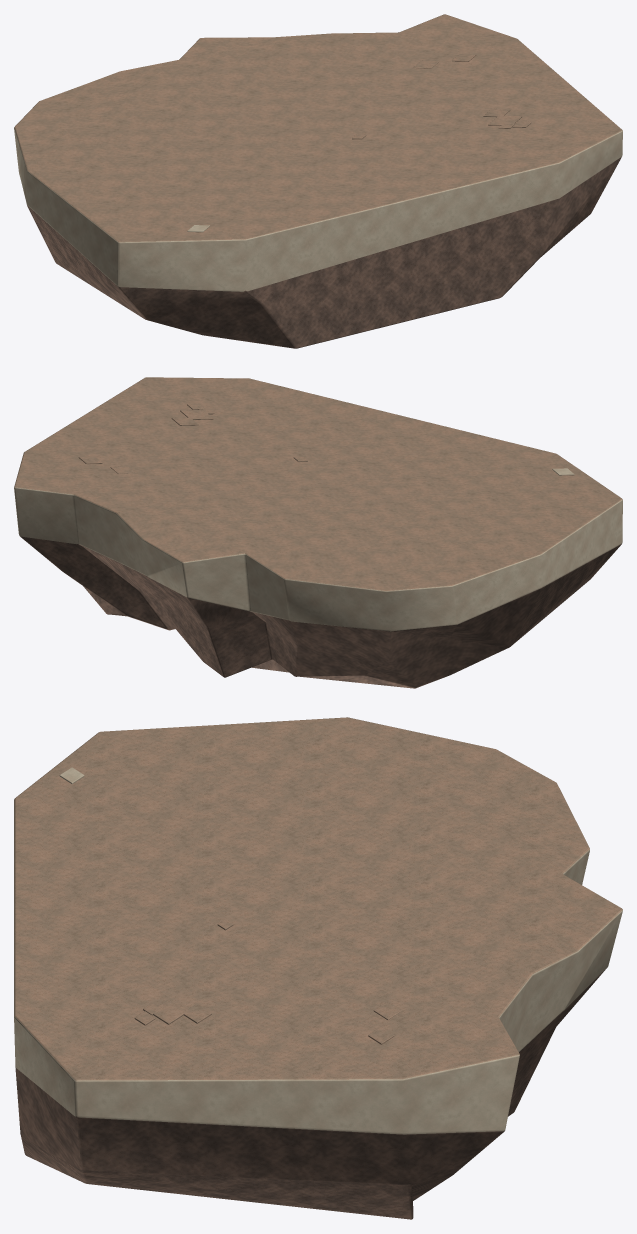
The model's file is pit_lip_undercut.glb.
3 views of the same model, one above another, from view 1: azimuth 30°, elevation 25°; view 2: azimuth 150°, elevation 25°; view 3: azimuth 270°, elevation 25° (orthographic). The views are drawn at different scales.
Visible parts, largest first — view 1: Layered_undercut_warm_panel; view 2: Layered_undercut_warm_panel; view 3: Layered_undercut_warm_panel.
Part boxes in pixels (<box>): Layered_undercut_warm_panel: <box>14,14,622,348</box>; Layered_undercut_warm_panel: <box>14,377,622,688</box>; Layered_undercut_warm_panel: <box>14,717,622,1219</box>.
Size of the model in its own units: 2.76 by 0.8166 by 2.01.
3 materials, 3 textured.
